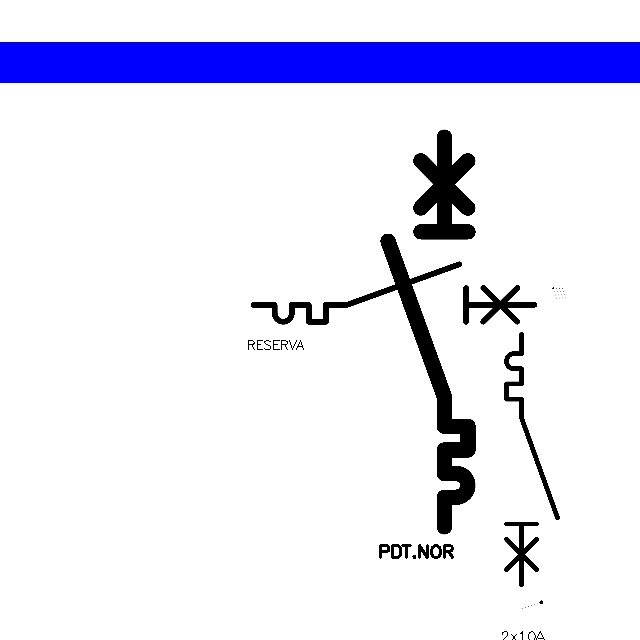interruptor_termomagnetico: (378, 127, 478, 537), (246, 257, 541, 329), (500, 328, 564, 591)
